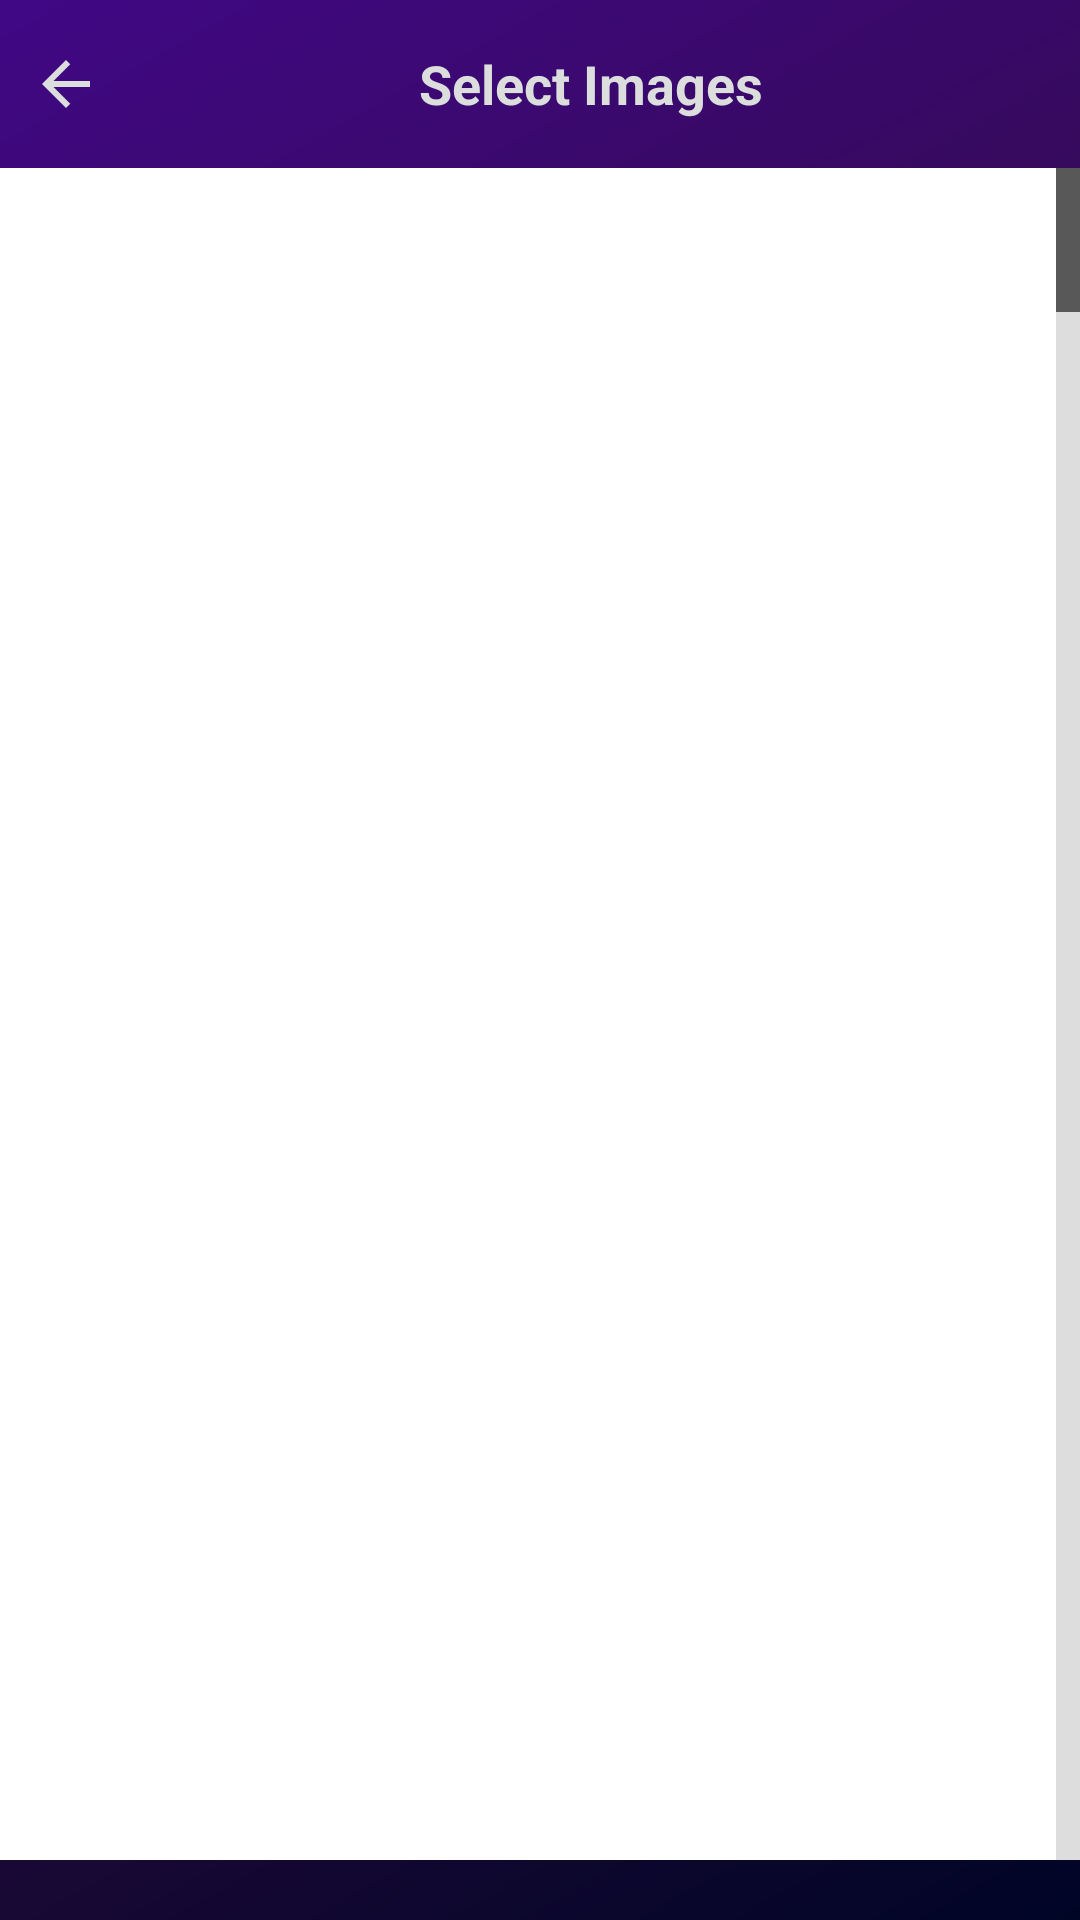

Screen size 1080x1920. Icon name, then its box in pixels as (x1, y1, x2, y2):
arrow back: (42, 60, 90, 108)
